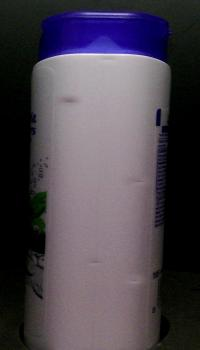dent_marginal: (49, 91, 92, 111), (120, 270, 150, 292), (75, 253, 110, 268), (125, 174, 151, 190)
